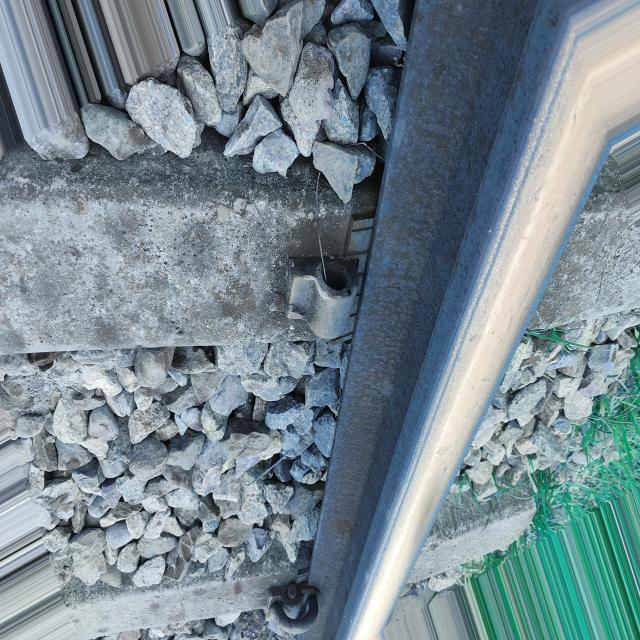Good Fasteners: (261, 562, 322, 637)
Missing Fastener: (267, 227, 399, 365)
